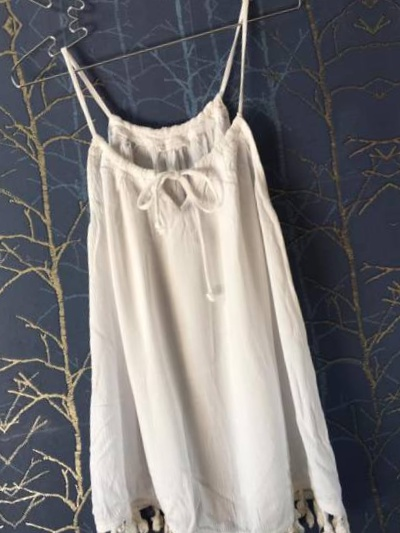Dress: (14, 16, 374, 533), (0, 0, 311, 3)
